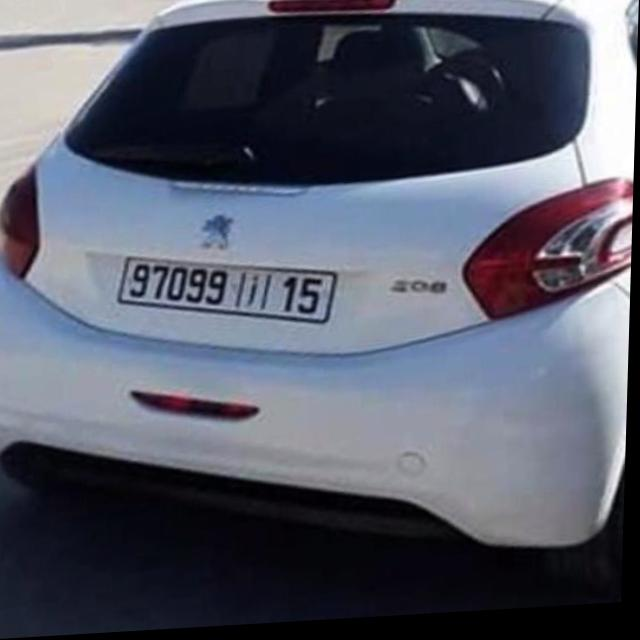License-Plate: (120, 258, 338, 326)
